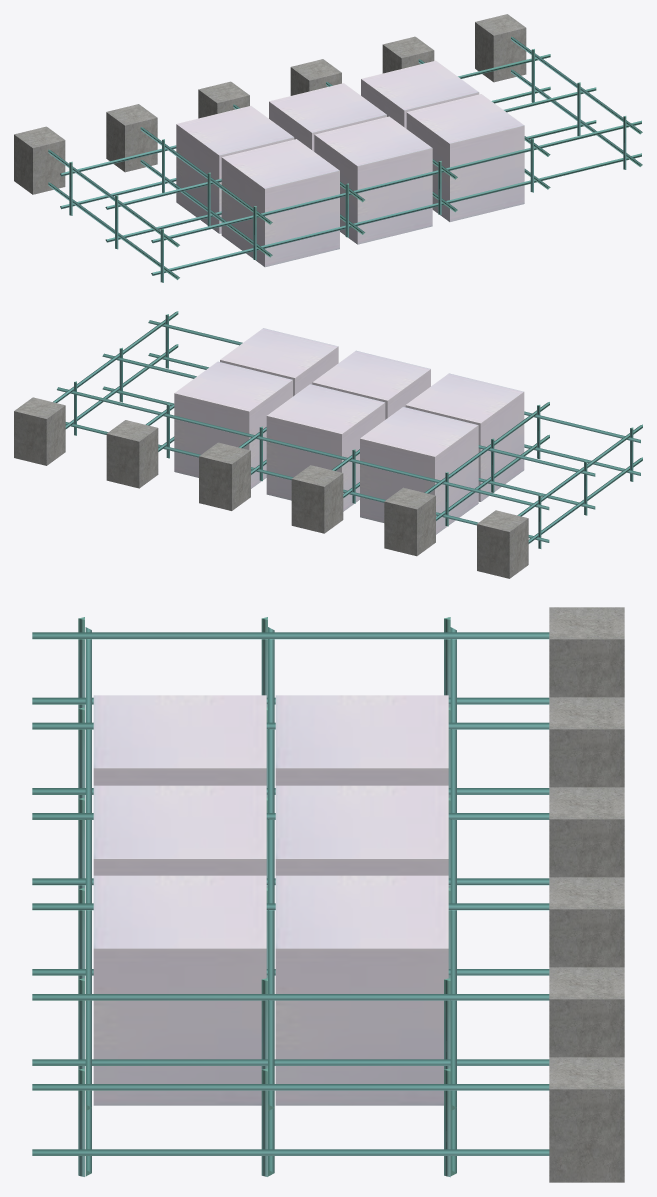
File: sgy_ydhe_01.gltf
3 views of the same model, one above another, from view 1: azimuth 30°, elevation 25°; view 2: azimuth 150°, elevation 25°; view 3: azimuth 270°, elevation 25° (orthographic). The views are drawn at different scales.
Visible parts, largest first — view 1: Box002; view 2: Box002; view 3: Box002.
Part boxes in pixels (left/top/right/bottom): Box002: left=14, top=14, right=642, bottom=282; Box002: left=14, top=311, right=642, bottom=578; Box002: left=32, top=607, right=624, bottom=1182.
Bounding box in the file's own units: 13.18 × 2 × 6.85.
2 materials, 2 textured.
